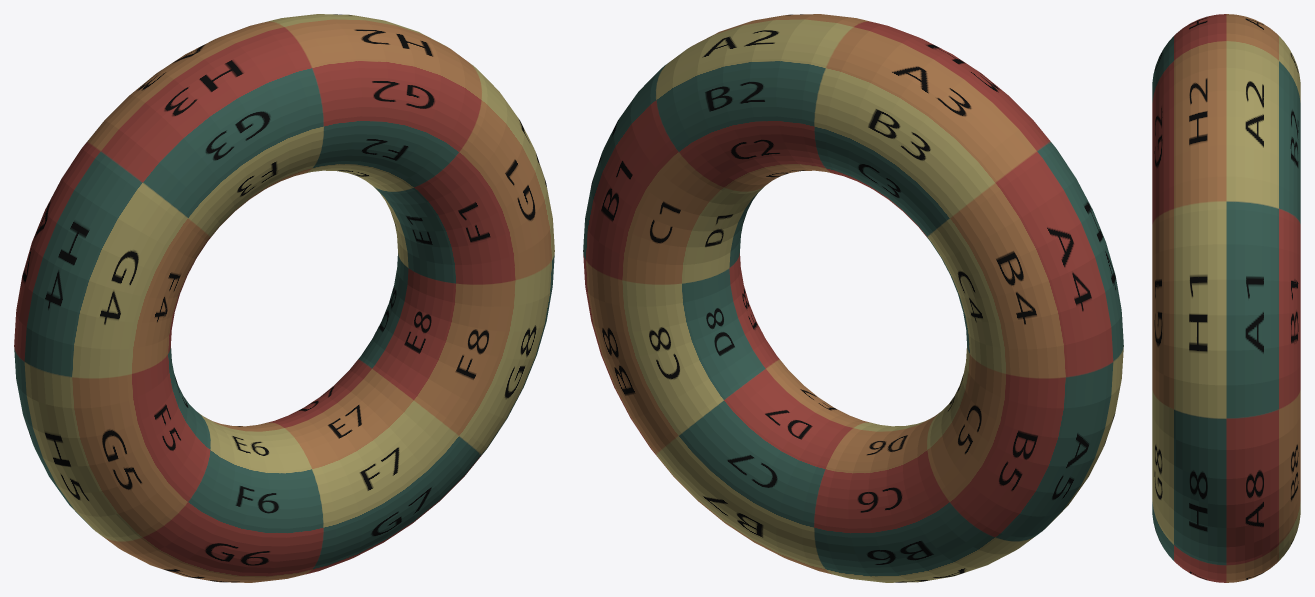
Rendered from texture_torus_R24_r27.glb.
The picture shows the model from 3 angles, left to right: view 1: azimuth 30°, elevation 25°; view 2: azimuth 150°, elevation 25°; view 3: azimuth 270°, elevation 25°; orthographic projection. The views are drawn at different scales.
Parts seen in each view (by area): view 1: world; view 2: world; view 3: world.
Boxes of the visible parts, x1,y1,x2,y2 form: world: (14, 14, 554, 582); world: (583, 14, 1123, 582); world: (1152, 14, 1300, 582).
Bounding box in the file's own units: 35.2 × 35.13 × 9.18.
1 material, 1 textured.
